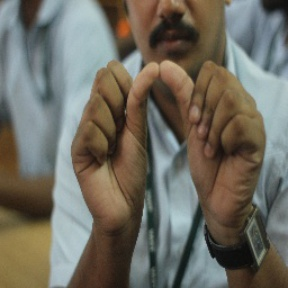A: (84, 54, 247, 186)
